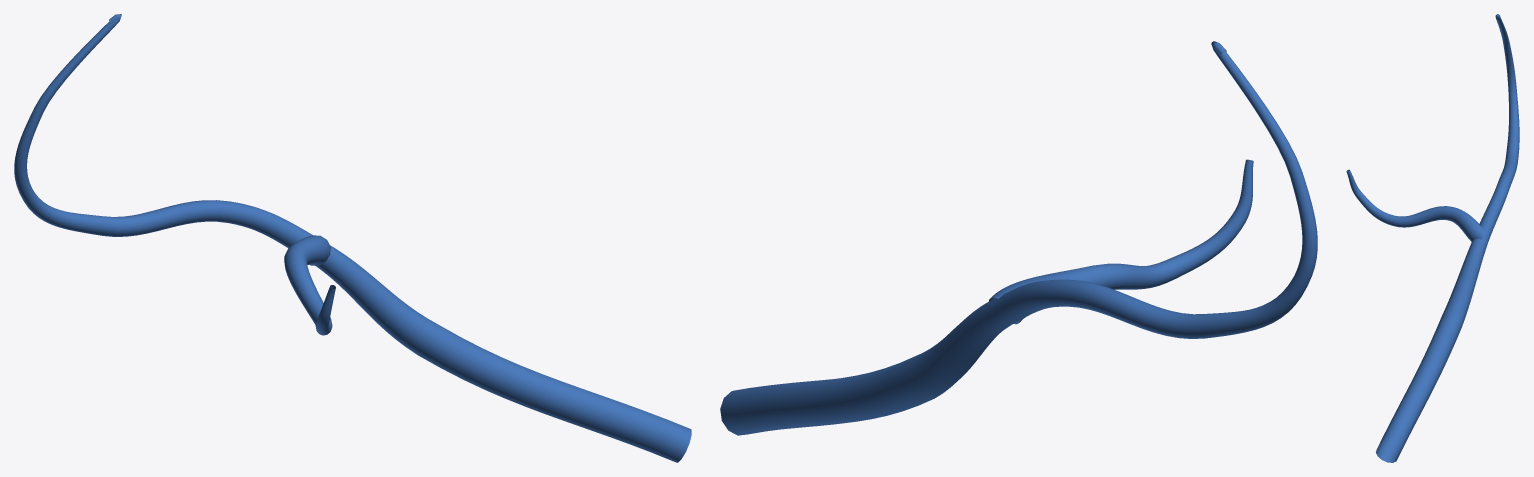
3 views of the same model, side by side, from view 1: azimuth 30°, elevation 25°; view 2: azimuth 150°, elevation 25°; view 3: azimuth 270°, elevation 25° (orthographic). The views are drawn at different scales.
Parts seen in each view (by area): view 1: 右侧旋股外侧静脉; view 2: 右侧旋股外侧静脉; view 3: 右侧旋股外侧静脉.
Part boxes in pixels (left/top/right/bottom): 右侧旋股外侧静脉: left=14, top=14, right=691, bottom=462; 右侧旋股外侧静脉: left=720, top=41, right=1317, bottom=435; 右侧旋股外侧静脉: left=1346, top=14, right=1519, bottom=462.
Size of the model in its own units: 0.1559 by 0.1282 by 0.0656.
